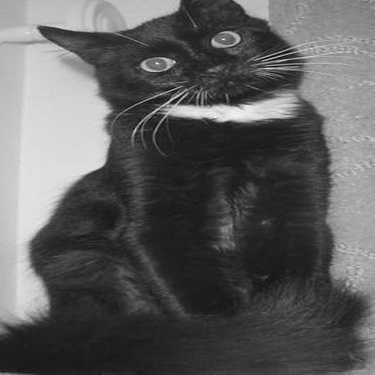cat: (2, 1, 363, 364)
